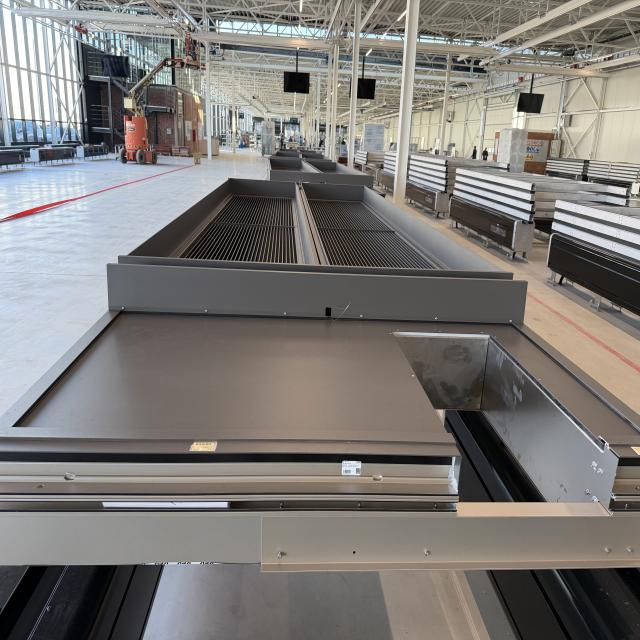vijak_nedostaje: (339, 535, 370, 563)
